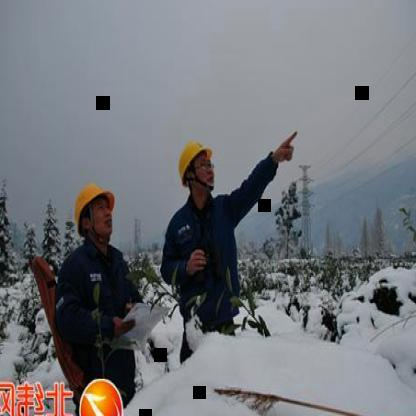helmet: (72, 176, 119, 248), (176, 134, 218, 206)
